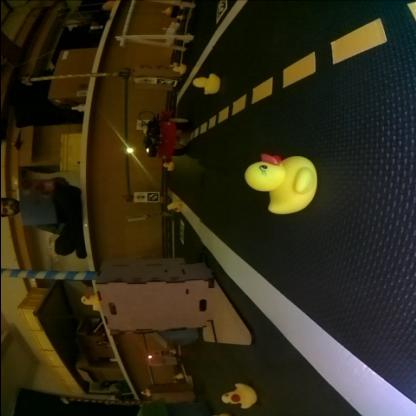Duckie: (242, 154, 314, 212), (221, 384, 255, 408), (192, 75, 218, 95), (80, 294, 98, 312), (166, 203, 180, 213), (172, 64, 184, 74), (162, 162, 171, 172)
Duckiebot: (141, 112, 188, 160)
Intersection sign: (136, 78, 152, 84)
QR code: (212, 1, 226, 24), (176, 221, 184, 244), (155, 80, 175, 86), (146, 194, 156, 202)
Signal sign: (134, 195, 142, 202)
Traffic light: (122, 148, 132, 154)
